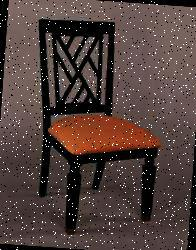Silla: (27, 17, 169, 239)
